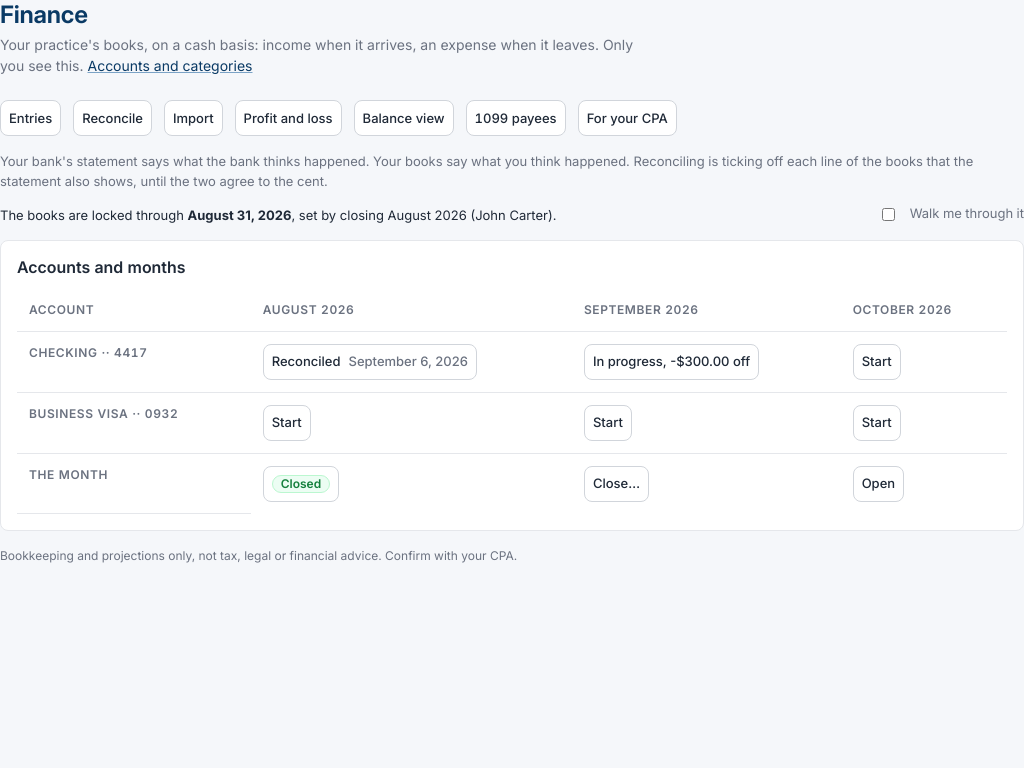
Test case: reconciling an account › lists a payment received and not yet placed, and places it from here
The image size is (1024, 768).
Click the button with aria-label "Checking, September 2026: In progress" at [672, 362], box [584,344,759,380]
(page scrolled)
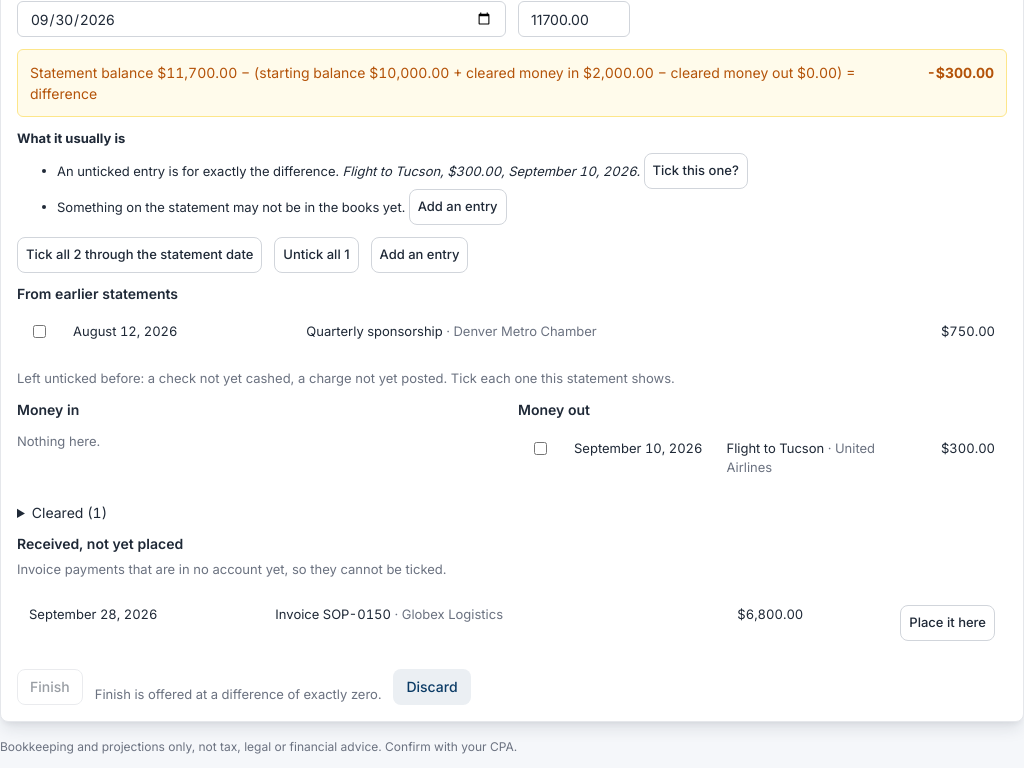
Click the button with aria-label "Place Invoice SOP-0150 here" at [948, 622], box [900,604,995,640]
(page scrolled)
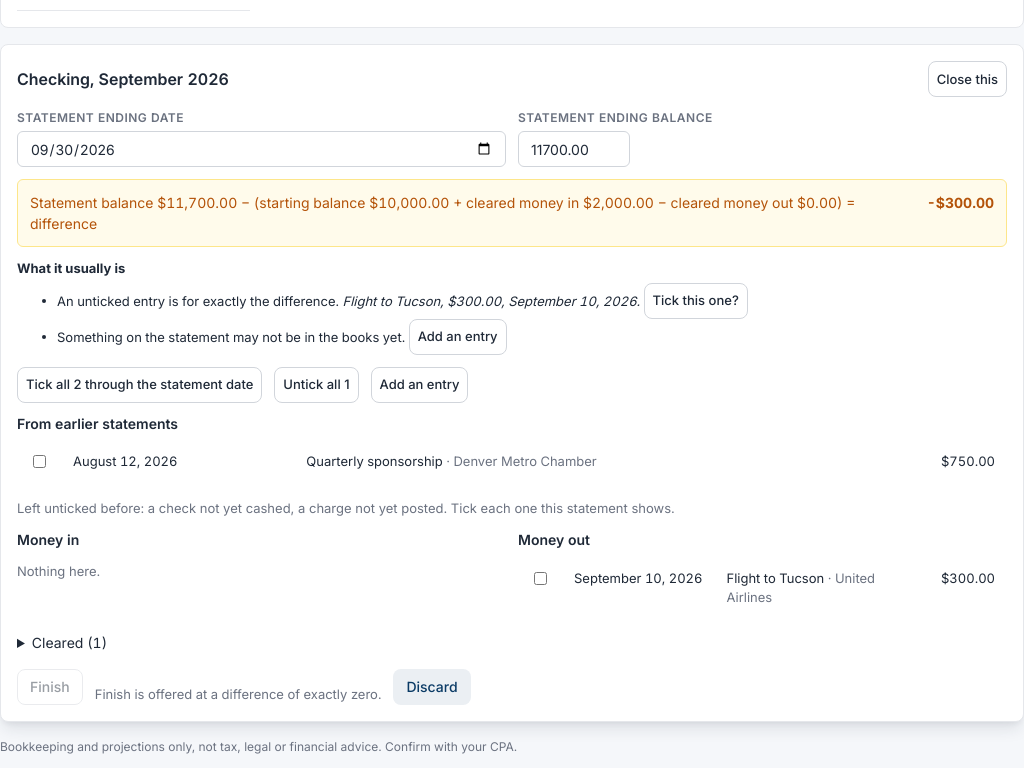
Result: the heading "Received, not yet placed" is gone
